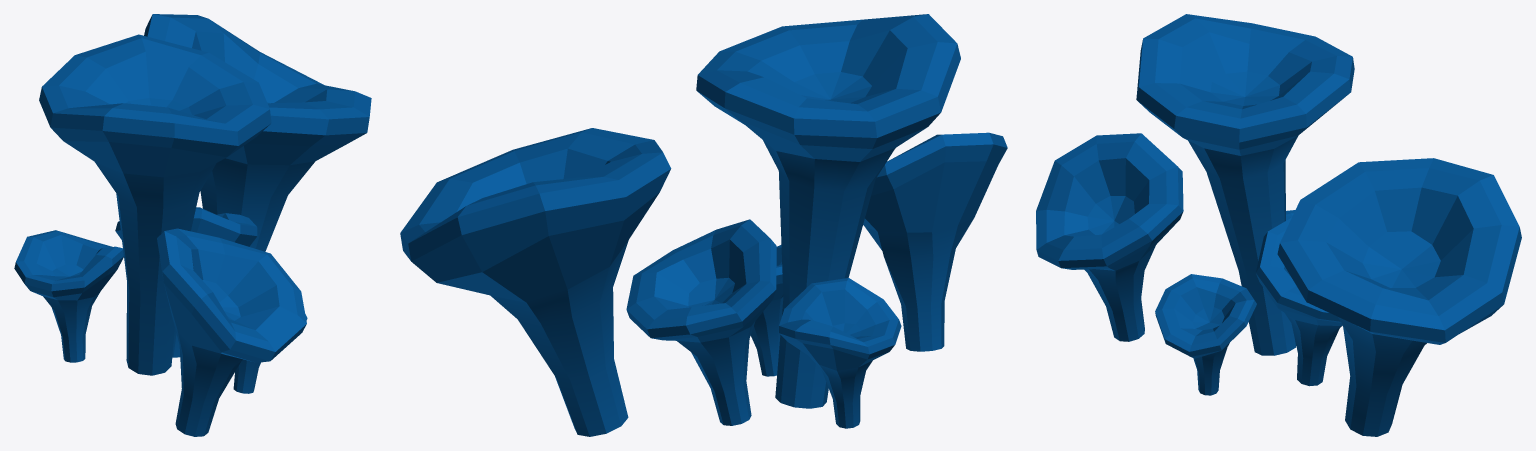
The model's file is Fungus.fbx.
3 renders of one model, left to right at view 1: azimuth 30°, elevation 25°; view 2: azimuth 150°, elevation 25°; view 3: azimuth 270°, elevation 25°, orthographic. The views are drawn at different scales.
Parts seen in each view (by area): view 1: Fungus; view 2: Fungus; view 3: Fungus.
Part boxes in pixels (x1=…): Fungus: x1=14, y1=14, x2=371, y2=436; Fungus: x1=400, y1=14, x2=1007, y2=436; Fungus: x1=1036, y1=14, x2=1521, y2=436.
Bounding box in the file's own units: 15.13 × 12.32 × 17.34.
